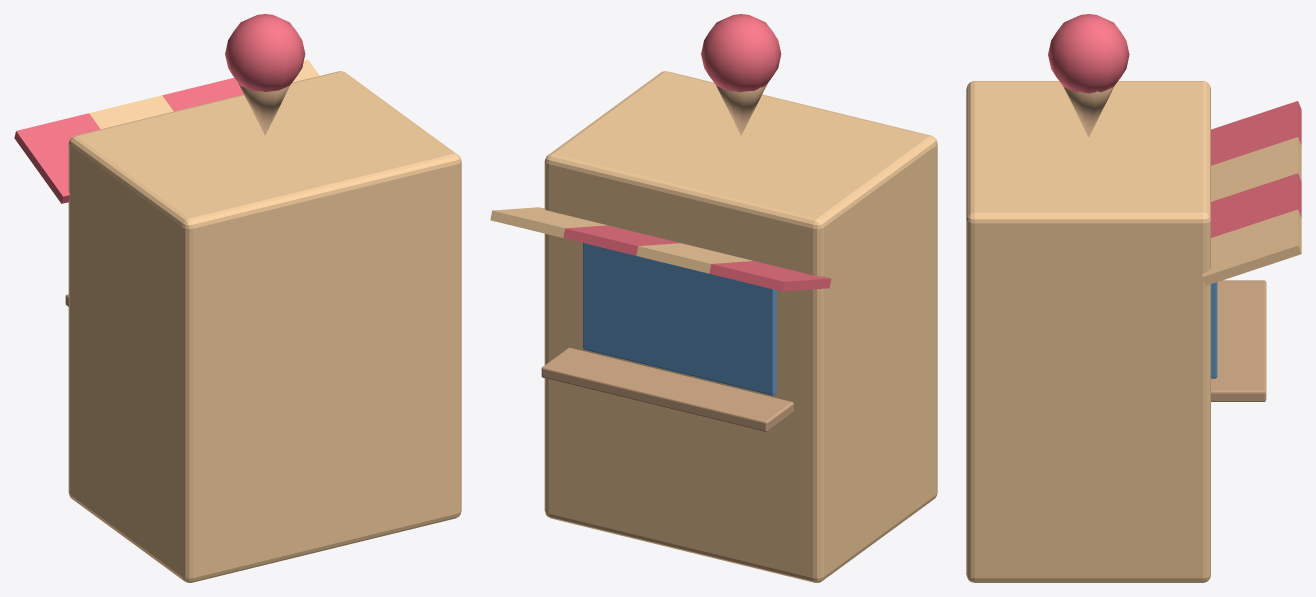
The model's file is kiosk.glb.
3 renders of one model, left to right at view 1: azimuth 30°, elevation 25°; view 2: azimuth 150°, elevation 25°; view 3: azimuth 270°, elevation 25°, orthographic.
Visible parts, largest first — view 1: kiosk, kiosk_scoop, kiosk_awning0, kiosk_awning1, kiosk_awning2, kiosk_cone; view 2: kiosk, kiosk_window, kiosk_counter, kiosk_scoop, kiosk_awning0, kiosk_awning3, kiosk_awning1, kiosk_awning2, kiosk_cone; view 3: kiosk, kiosk_counter, kiosk_scoop, kiosk_awning3, kiosk_awning1, kiosk_awning0, kiosk_awning2, kiosk_cone, kiosk_window.
Part boxes in pixels (bbox=[...]): kiosk: bbox=[68, 71, 461, 582]; kiosk_scoop: bbox=[225, 14, 305, 91]; kiosk_awning0: bbox=[14, 113, 100, 203]; kiosk_awning1: bbox=[89, 95, 173, 129]; kiosk_awning2: bbox=[162, 77, 243, 111]; kiosk_cone: bbox=[238, 83, 289, 135]; kiosk: bbox=[544, 71, 937, 582]; kiosk_window: bbox=[583, 243, 776, 395]; kiosk_counter: bbox=[541, 347, 793, 431]; kiosk_scoop: bbox=[701, 14, 781, 91]; kiosk_awning0: bbox=[709, 261, 831, 291]; kiosk_awning3: bbox=[490, 207, 606, 237]; kiosk_awning1: bbox=[636, 243, 752, 273]; kiosk_awning2: bbox=[563, 225, 680, 255]; kiosk_cone: bbox=[716, 83, 767, 135]; kiosk: bbox=[966, 81, 1210, 582]; kiosk_counter: bbox=[1211, 280, 1266, 401]; kiosk_scoop: bbox=[1048, 14, 1129, 93]; kiosk_awning3: bbox=[1202, 209, 1301, 285]; kiosk_awning1: bbox=[1211, 137, 1301, 201]; kiosk_awning0: bbox=[1211, 101, 1301, 165]; kiosk_awning2: bbox=[1211, 173, 1301, 237]; kiosk_cone: bbox=[1063, 86, 1113, 137]; kiosk_window: bbox=[1211, 282, 1217, 378].
Size of the model in its own units: 1.68 by 2.7 by 1.64.
